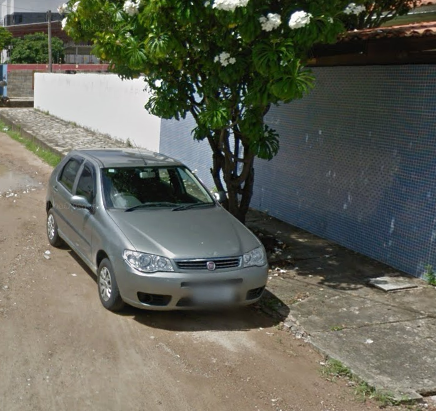car: (43, 144, 271, 318)
